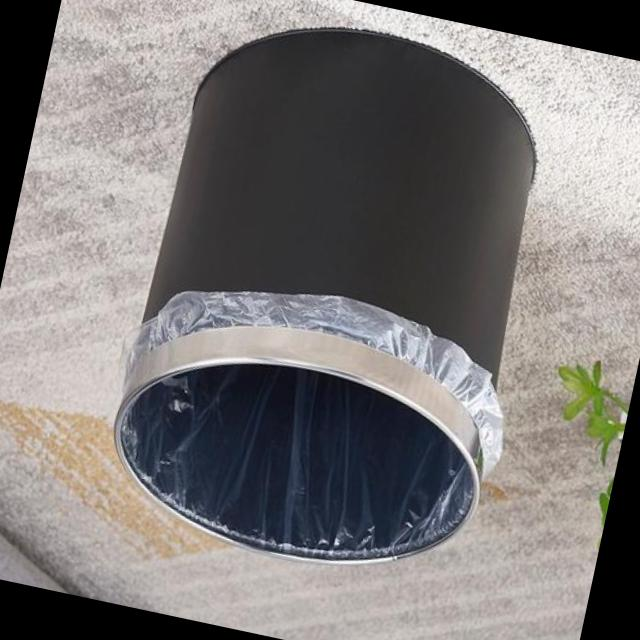dustbin: (79, 0, 589, 606)
